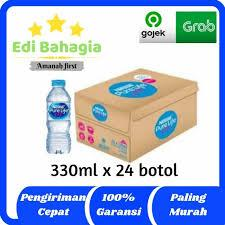BIODEGRADABLE: (46, 78, 70, 155)
